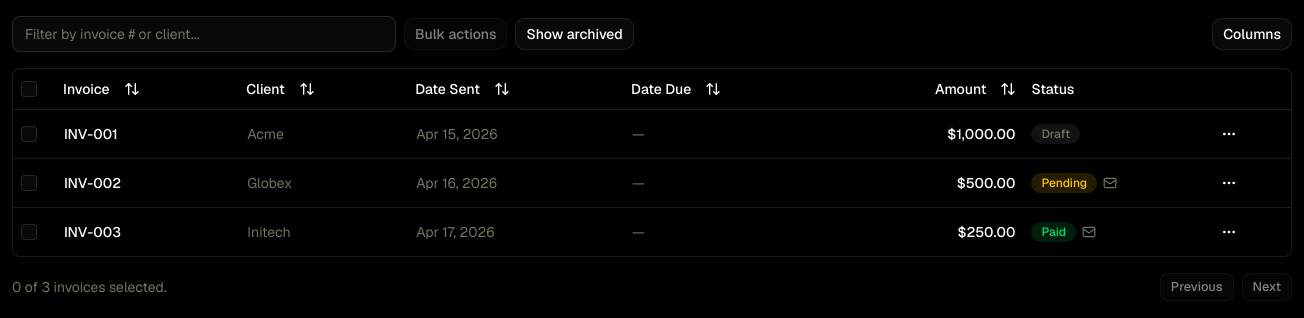
Test: InvoiceDataTable — clear selected › clears row selection when clicked and preserves filter and archive-toggle state
Type "Acme" into the search field with placeholder "Filter by invoice # or client..." at (204, 34), box top-left (12, 16), bottom-right (396, 52)
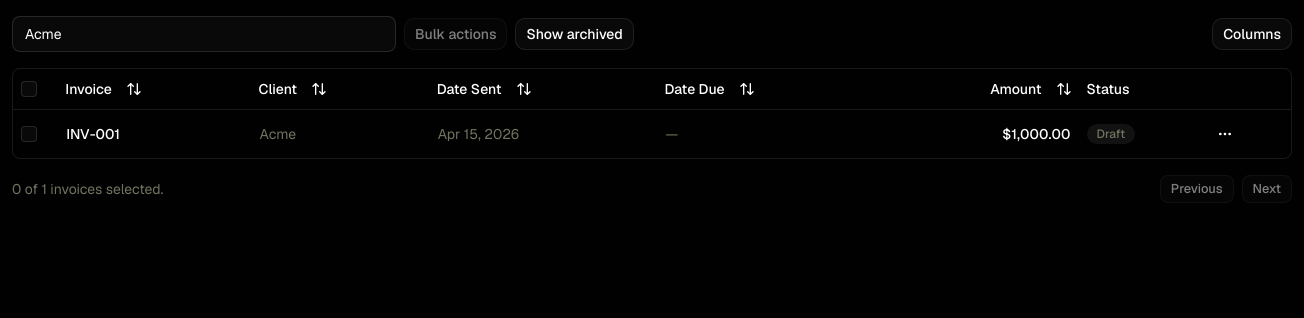
Click the button "Show archived" at (575, 34), box top-left (515, 18), bottom-right (634, 50)
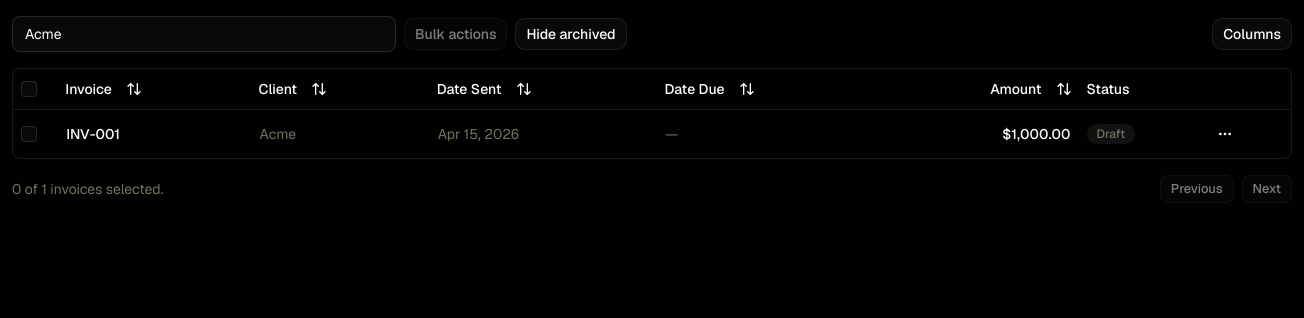
Click the checkbox named "select row" at (29, 134), box top-left (21, 126), bottom-right (37, 142)
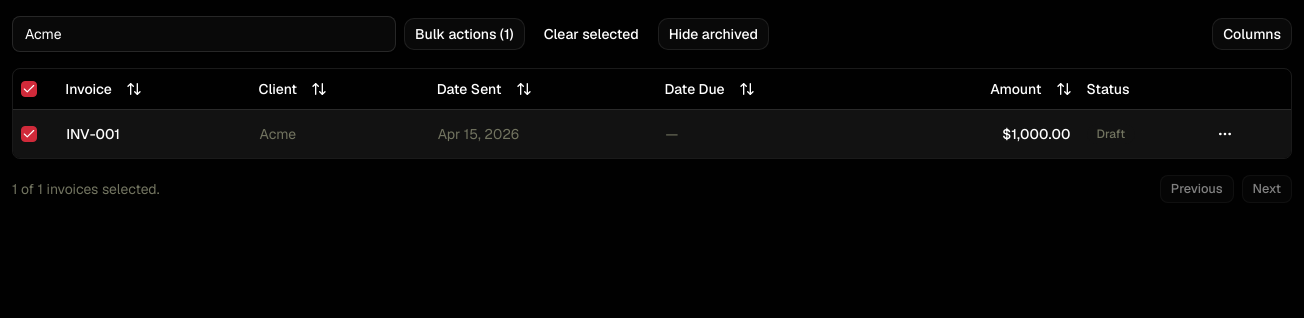
Check: the button with id "invoice-data-table--bulk-actions" is enabled, box top-left (404, 18), bottom-right (525, 50)
Click the button "Clear selected" at (591, 34), box top-left (533, 18), bottom-right (650, 50)
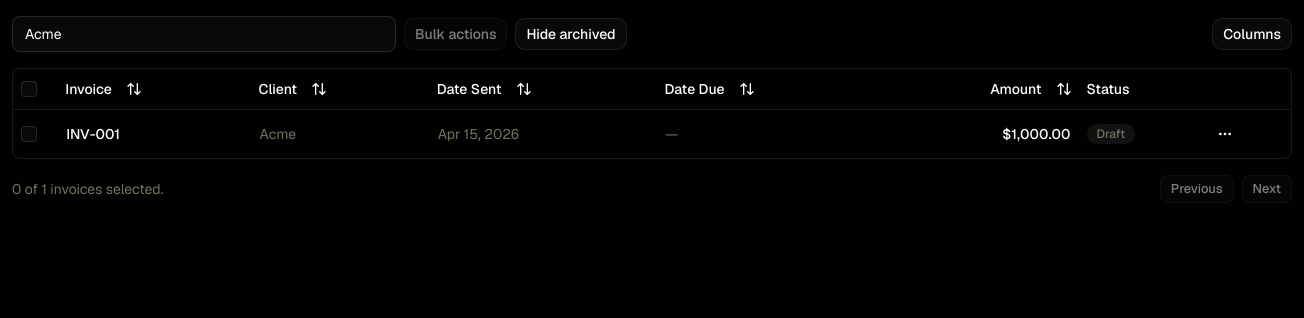
Check: the button "Hide archived" is shown, box top-left (515, 18), bottom-right (627, 50)
Check: the button with id "invoice-data-table--bulk-actions" is disabled, box top-left (404, 18), bottom-right (507, 50)
Check: the button "Clear selected" is gone
